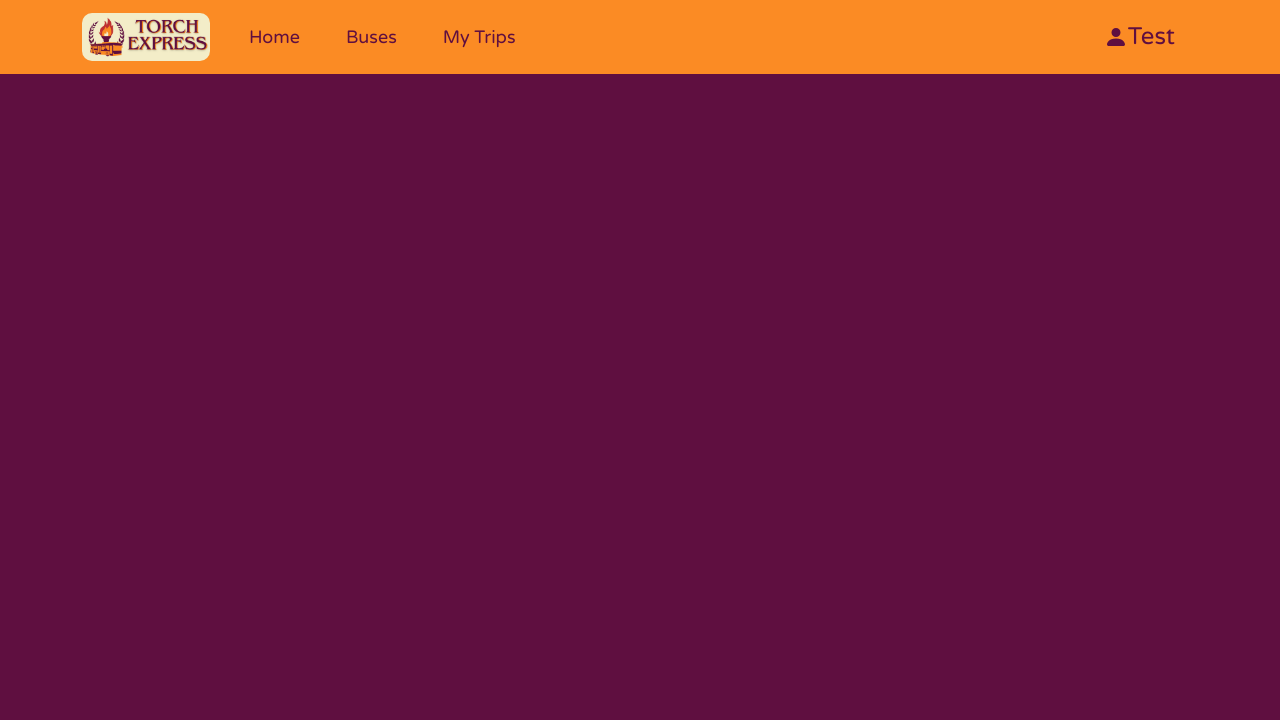
Test: NavigationBar Component › opens logout modal when Logout button is clicked
# Click Profile Icon
Click the button "Test" at (1139, 36), box [1104, 22, 1175, 51]
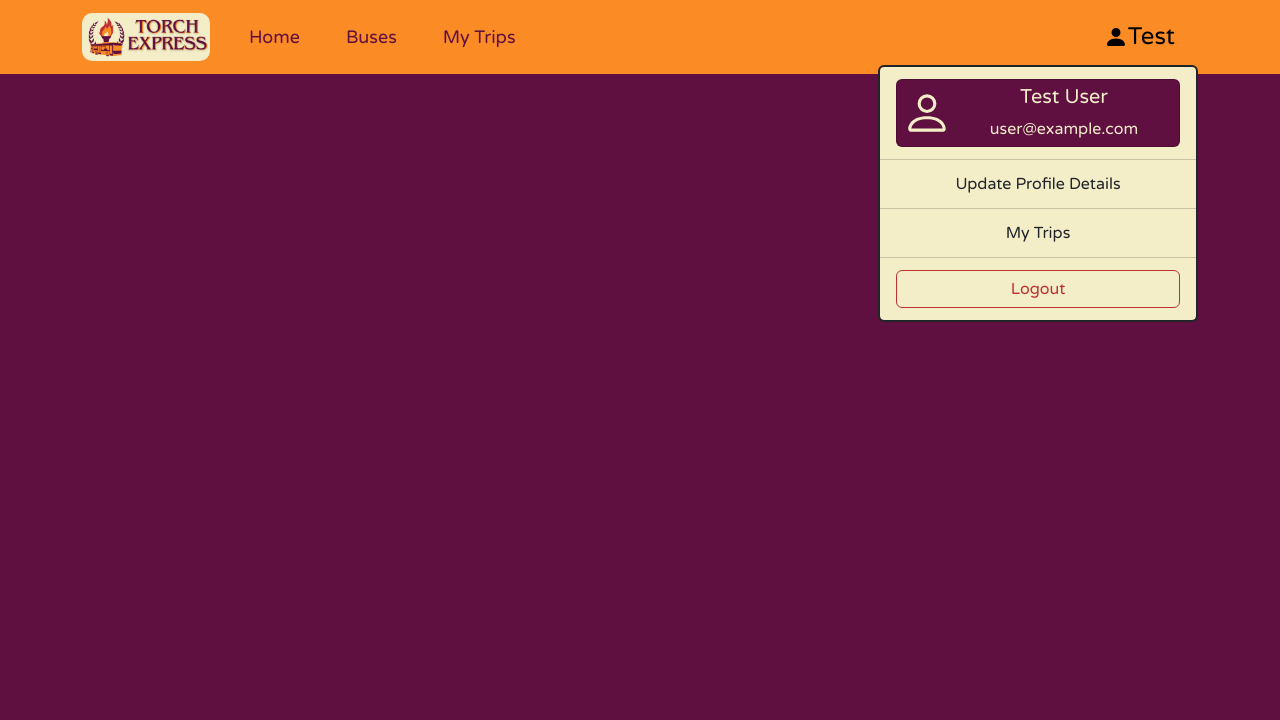
# Click Logout Button
Click the button "Logout" at (1038, 289), box [896, 270, 1180, 308]
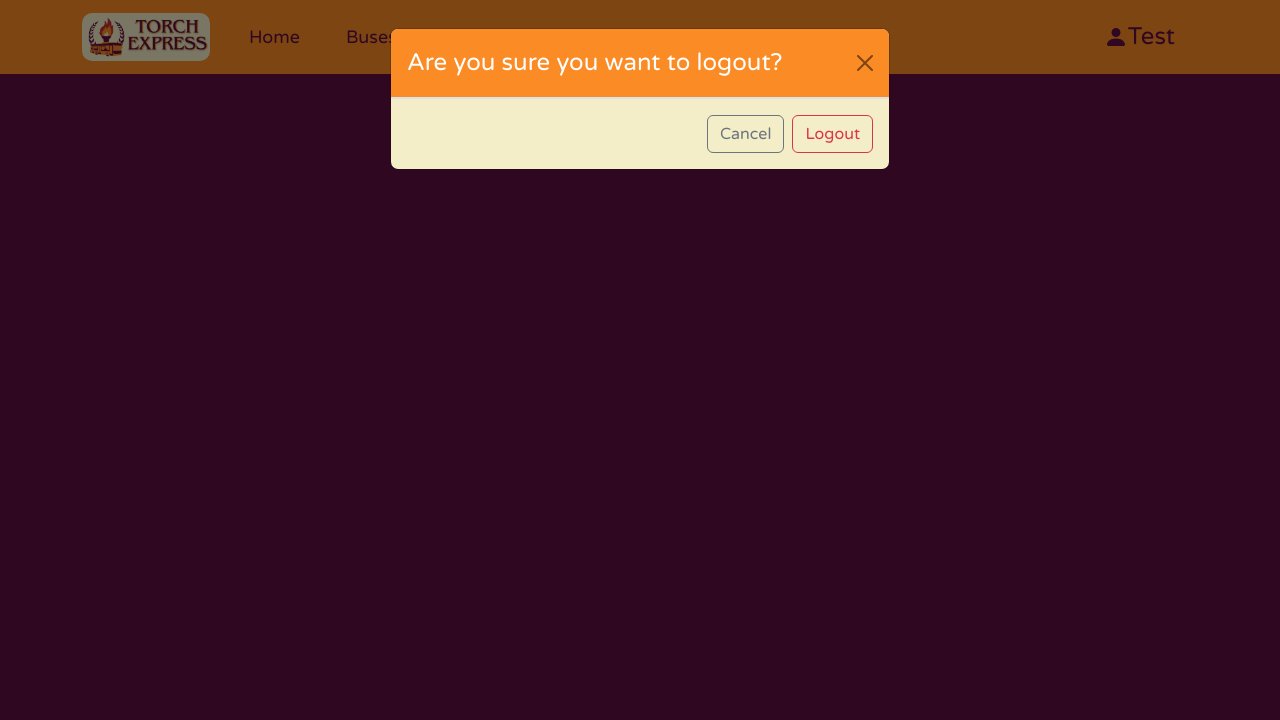
Check: the text "Are you sure you want to logout?" is shown, box [407, 45, 782, 81]
